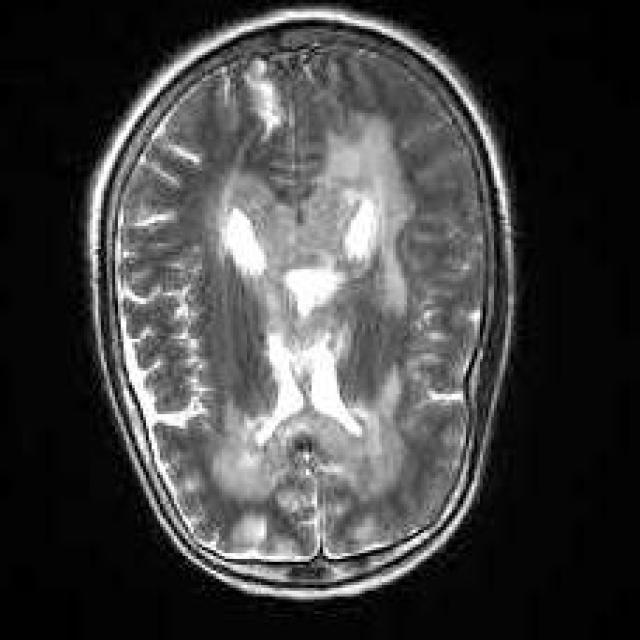notumor: (84, 6, 516, 605)
